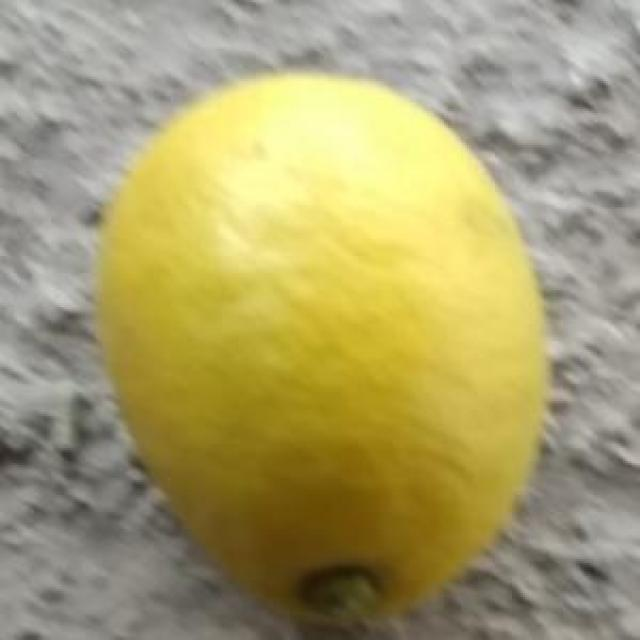lemon: (98, 72, 556, 632)
